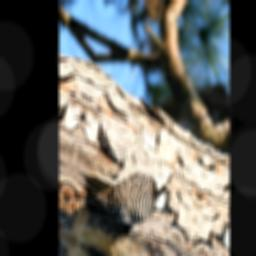Woodpecker: (75, 126, 175, 245)
